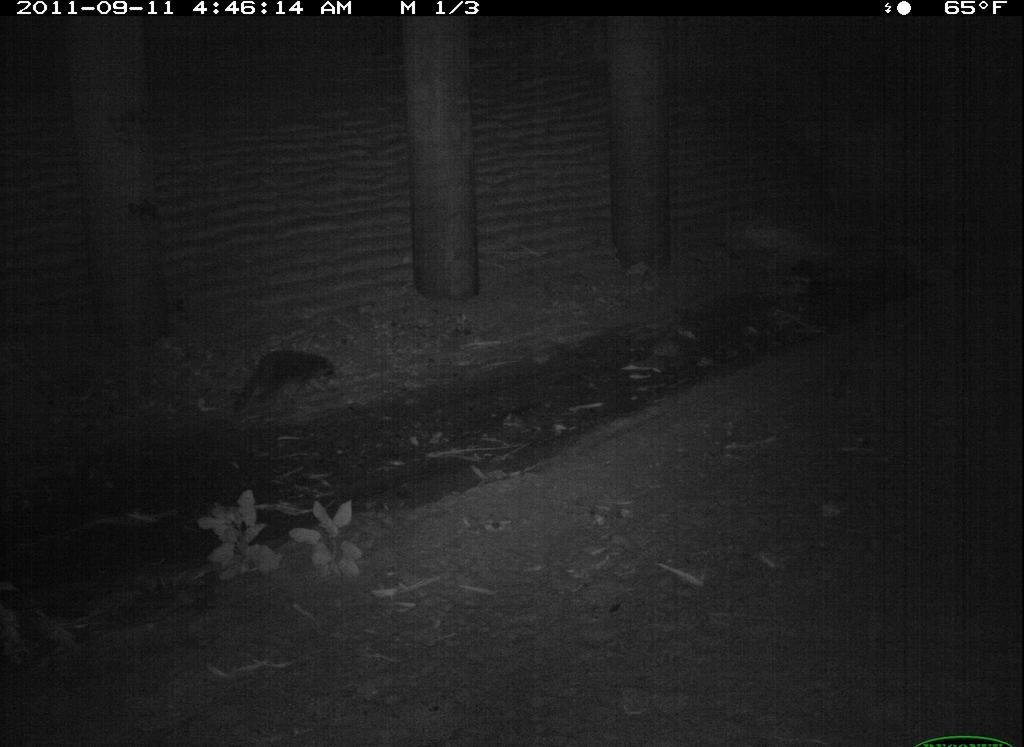raccoon: (450, 689, 688, 747)
